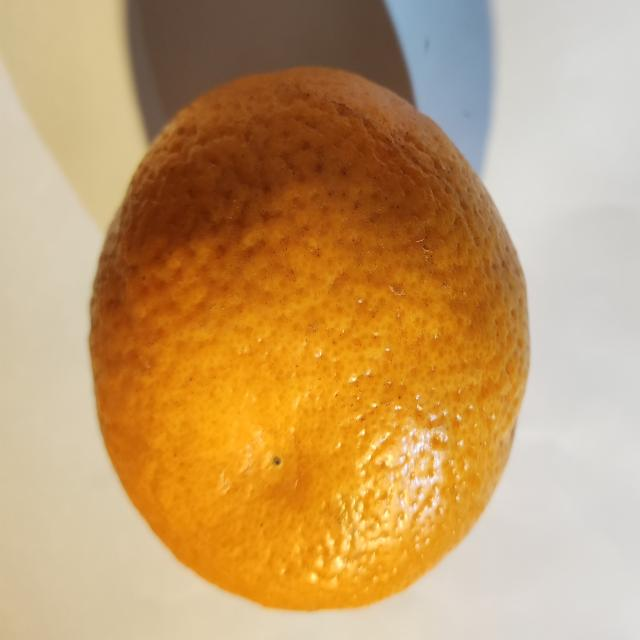orange: (90, 69, 529, 609)
